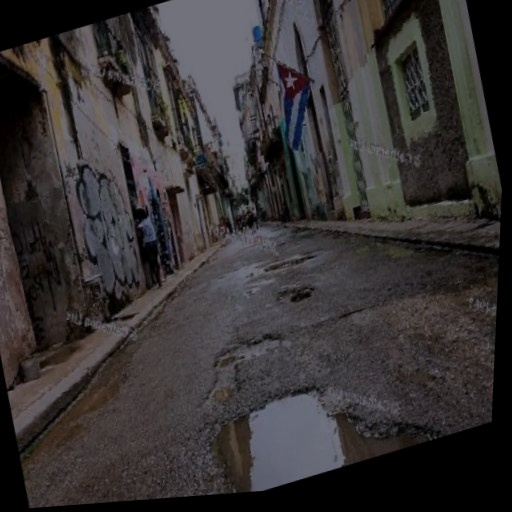pothole: (201, 341, 452, 495), (193, 335, 250, 408), (209, 322, 286, 371), (263, 246, 320, 274), (273, 276, 319, 309)
